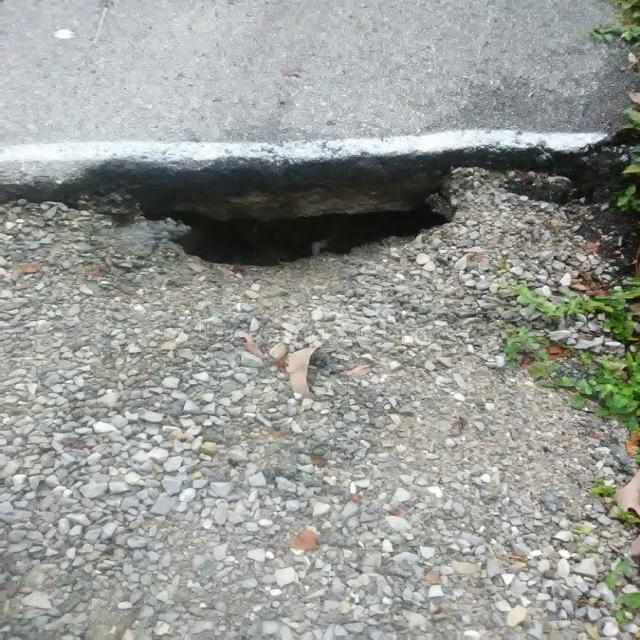Pothole: (83, 118, 552, 373)
